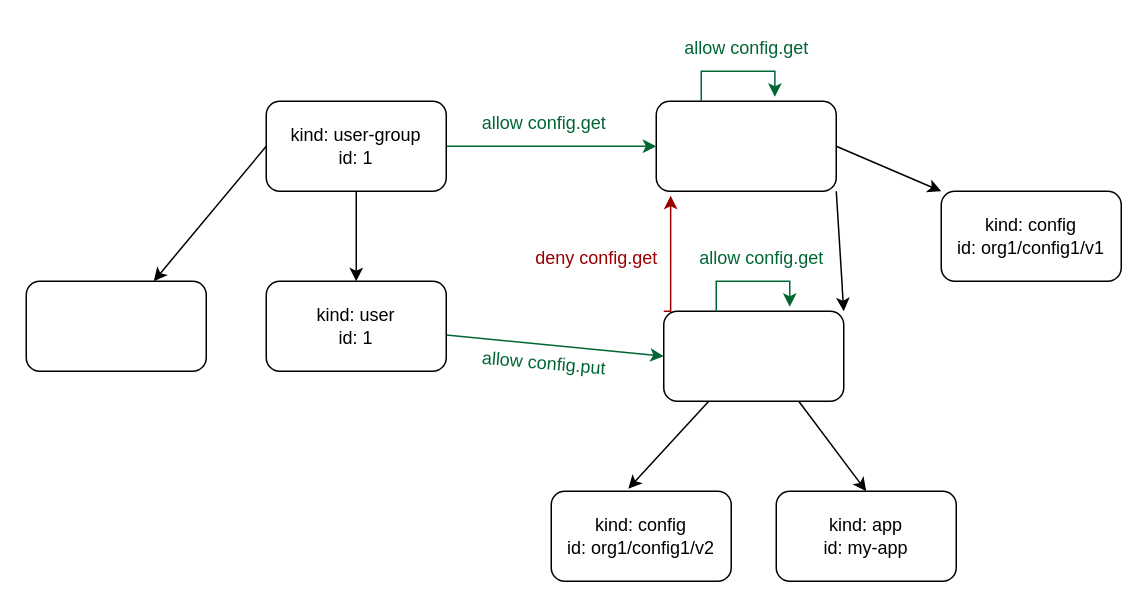
This 1148x608 diagram has some shape labels left out. Each missing label, with the centre of its shape:
"kind: namespace id: child" belongs at pixel 753 355.
"kind: namespace id: parent" belongs at pixel 745 145.
"kind: user id: 2" belongs at pixel 115 325.
